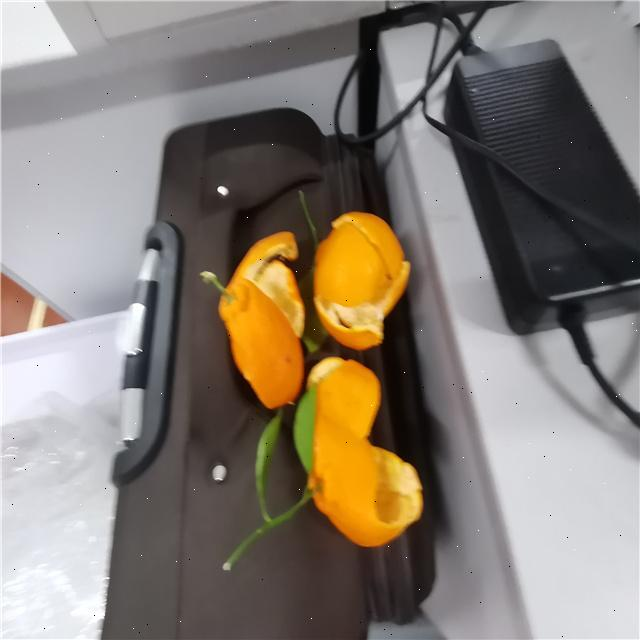orange-peel: (200, 205, 428, 562), (311, 209, 411, 350)
